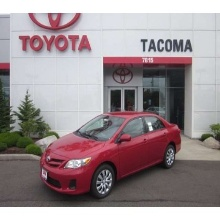no damage: (39, 111, 182, 198)
